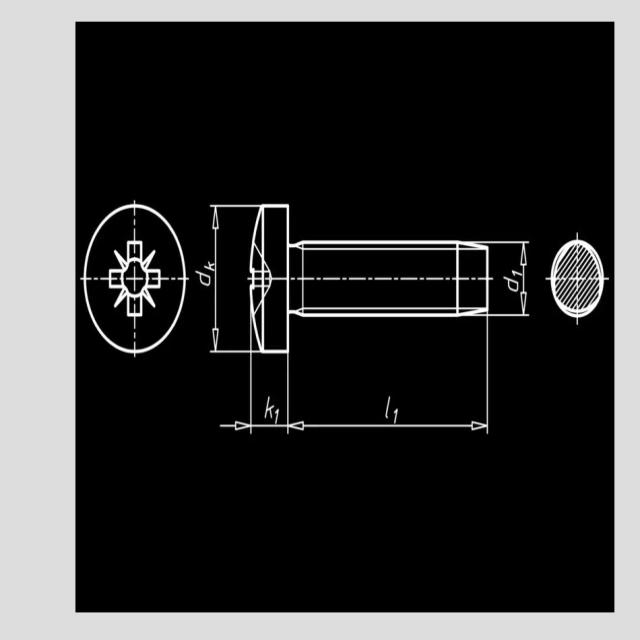marking_line: (283, 354, 491, 435), (218, 353, 306, 435), (210, 200, 250, 354), (490, 240, 532, 317)
